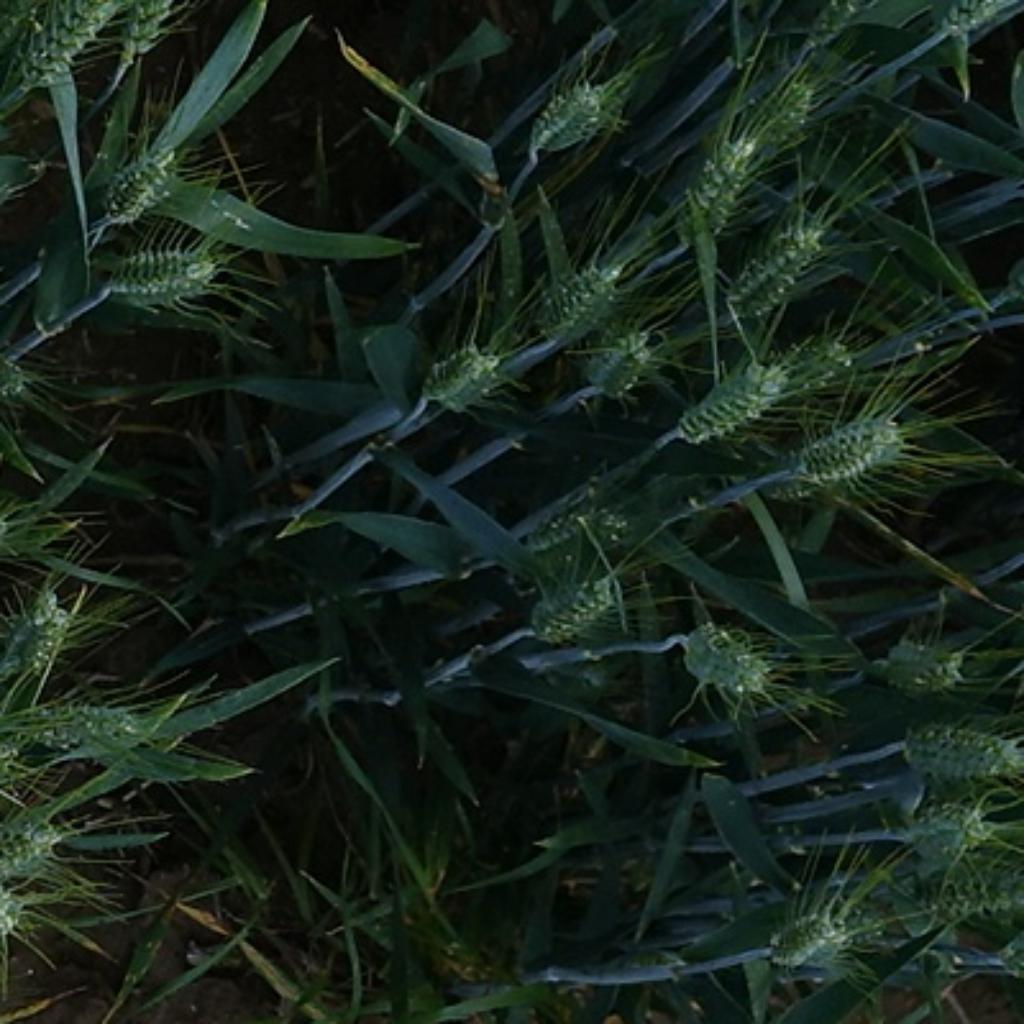0-0: (701, 71, 819, 199), (718, 218, 833, 328), (673, 345, 798, 445), (668, 609, 783, 706), (788, 401, 911, 491), (893, 709, 1024, 793), (20, 2, 125, 102), (519, 555, 632, 647), (675, 120, 765, 232), (522, 66, 632, 156), (529, 250, 632, 345), (890, 780, 1006, 862), (99, 235, 227, 307), (95, 143, 185, 233), (757, 899, 858, 978), (99, 2, 182, 98), (9, 694, 137, 756), (414, 332, 509, 414), (1, 587, 77, 682), (867, 627, 970, 696), (578, 317, 660, 401), (919, 870, 1024, 929), (789, 0, 874, 64), (0, 803, 66, 885), (930, 1, 1017, 54), (513, 511, 594, 553), (808, 339, 859, 387), (597, 512, 638, 544)
